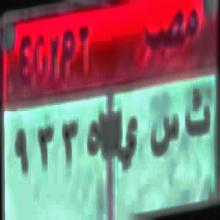3: (60, 112, 80, 176), (37, 123, 55, 176)
5: (86, 115, 101, 160)
9: (13, 118, 29, 179)
seen: (148, 104, 180, 159)
thaa: (183, 86, 212, 141)
yaa: (112, 112, 138, 174)
